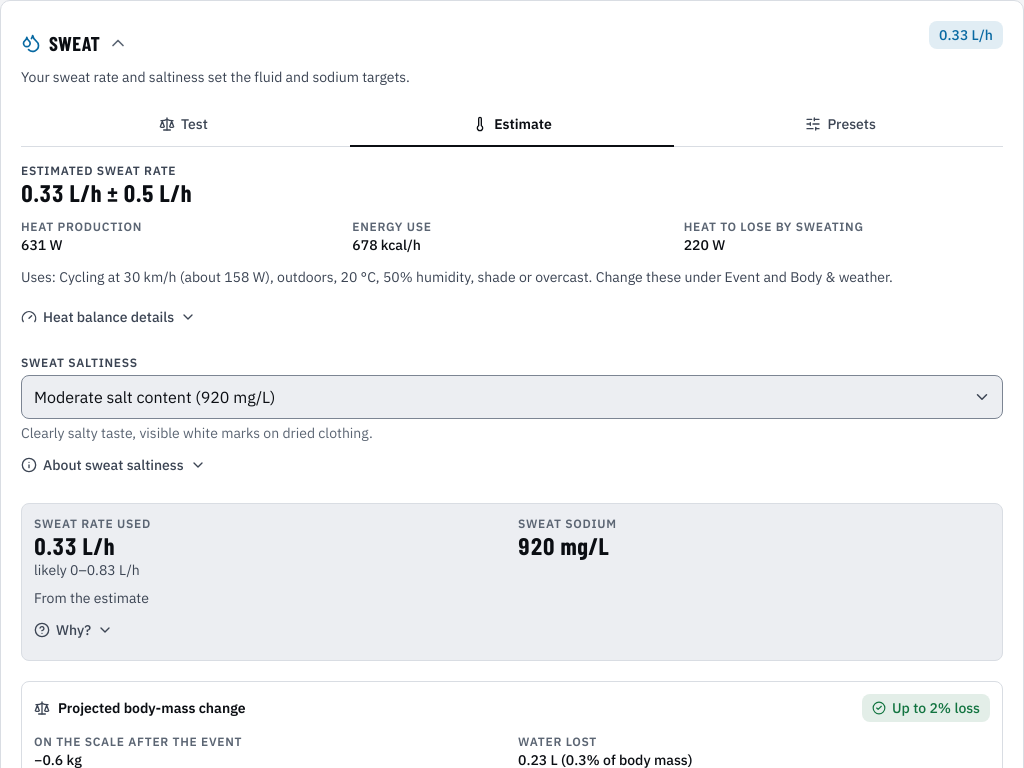
SweatSection › uses a sweat rate preset and recomputes the targets and the projection
The image size is (1024, 768).
Click the tab "Presets" at (841, 125), box [678,103,1003,147]
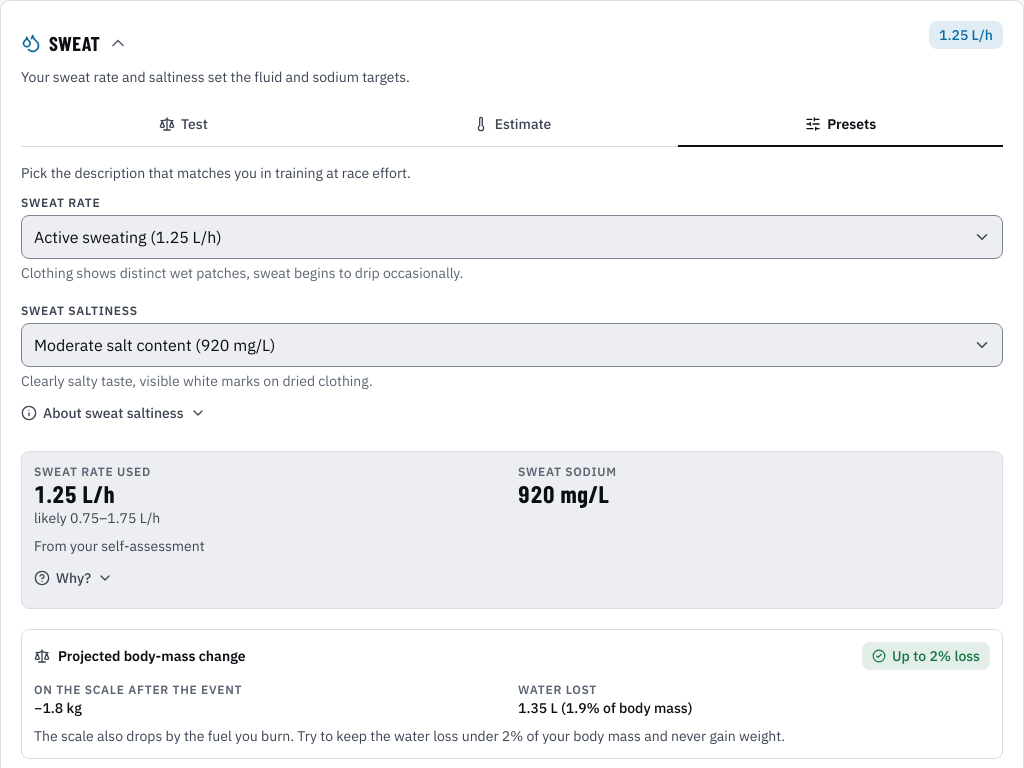
Result: the element with test id "sweat-estimate-panel" is gone
Result: the dropdown labelled "Sweat rate" shows "Active sweating (1.25 L/h)"
Result: the text with test id "sweat-rate-used" reads "1.25 L/h" at [34,479,115,508]
Select "Very heavy sweating (2.25 L/h)" in the dropdown labelled "Sweat rate" at (512, 237), box [21,215,1003,259]
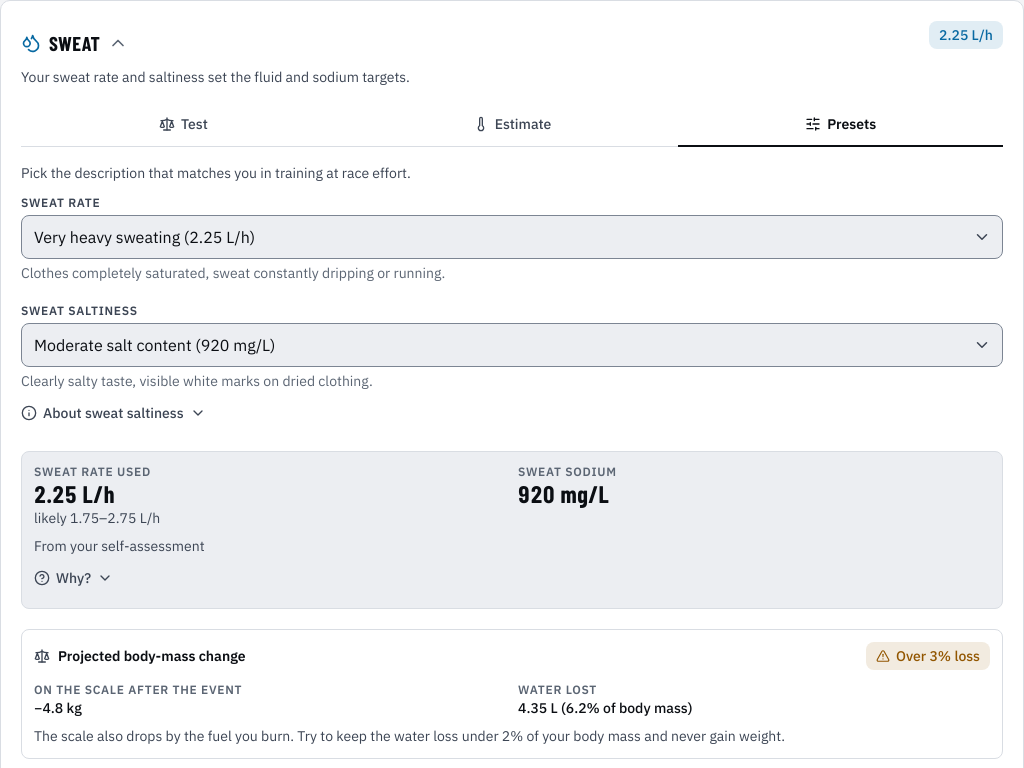
Result: the element with test id "body-mass-level" reads "Over 3% loss" at [896,647,980,665]
Result: the text with test id "body-mass-water" reads "4.35 L (6.2% of body mass)" at [518,699,692,717]
Select "Light sweating (0.25 L/h)" in the dropdown labelled "Sweat rate" at (512, 237), box [21,215,1003,259]
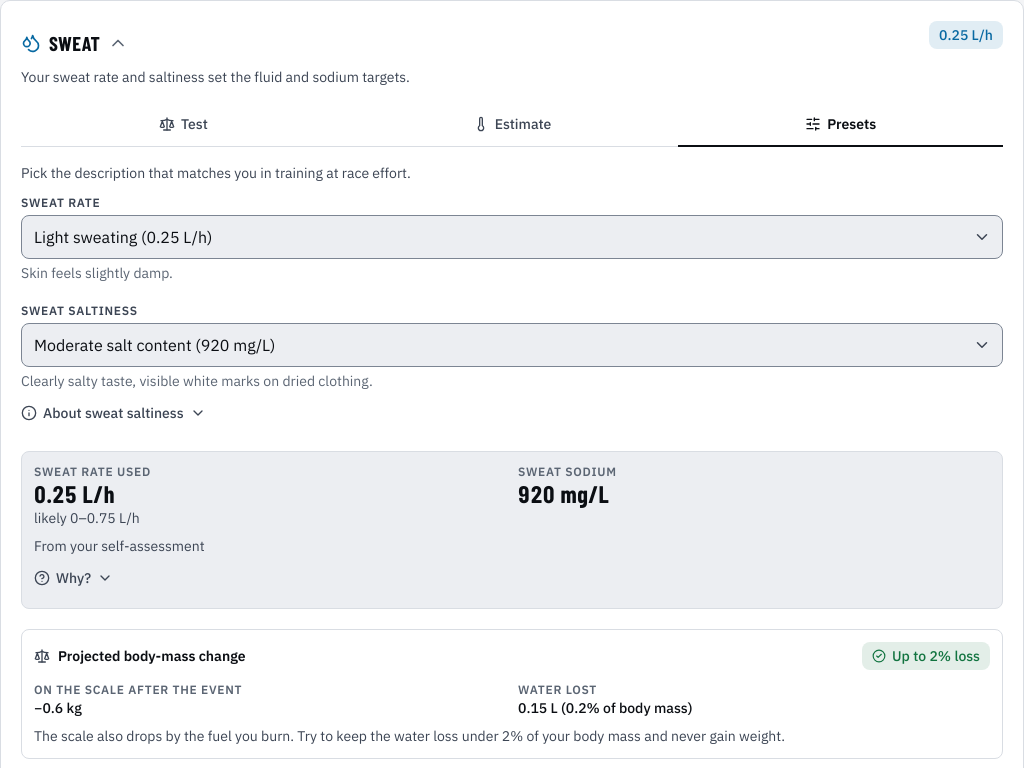
Note: 70 mmol/L is salty sweat: range 300–1000, half of 2012 mg/h → 1000 mg/h.
Select "Active sweating (1.25 L/h)" in the dropdown labelled "Sweat rate" at (512, 237), box [21,215,1003,259]
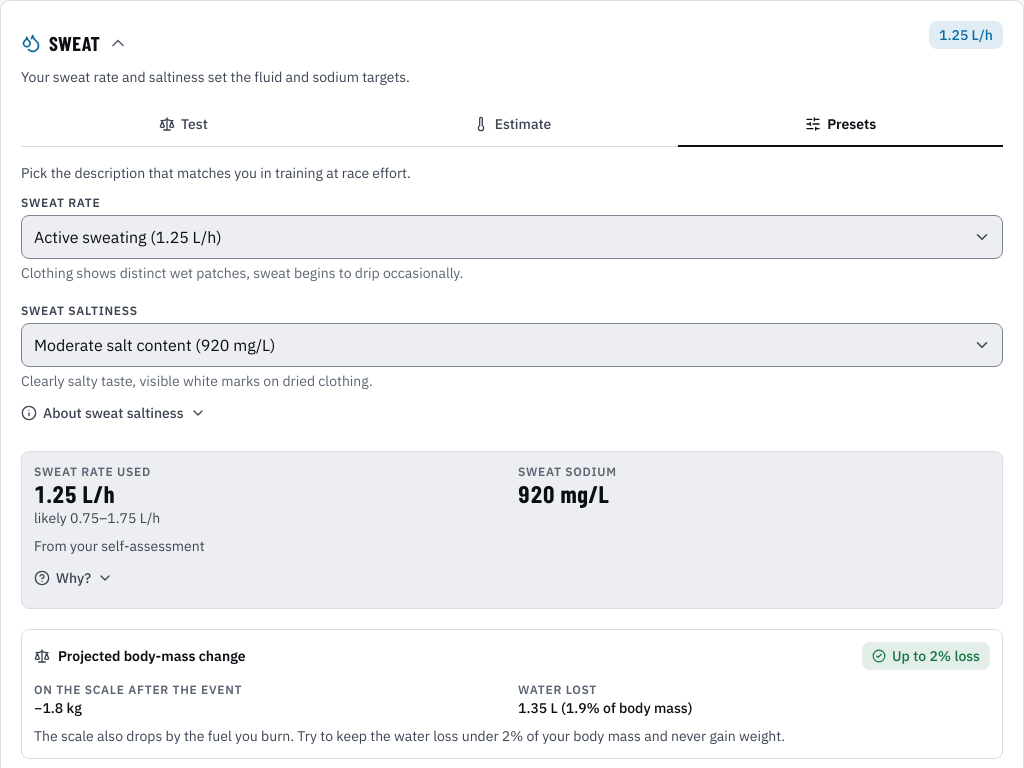
Select "Very high salt content (1,609 mg/L)" in the dropdown labelled "Sweat saltiness" at (512, 345), box [21,323,1003,367]
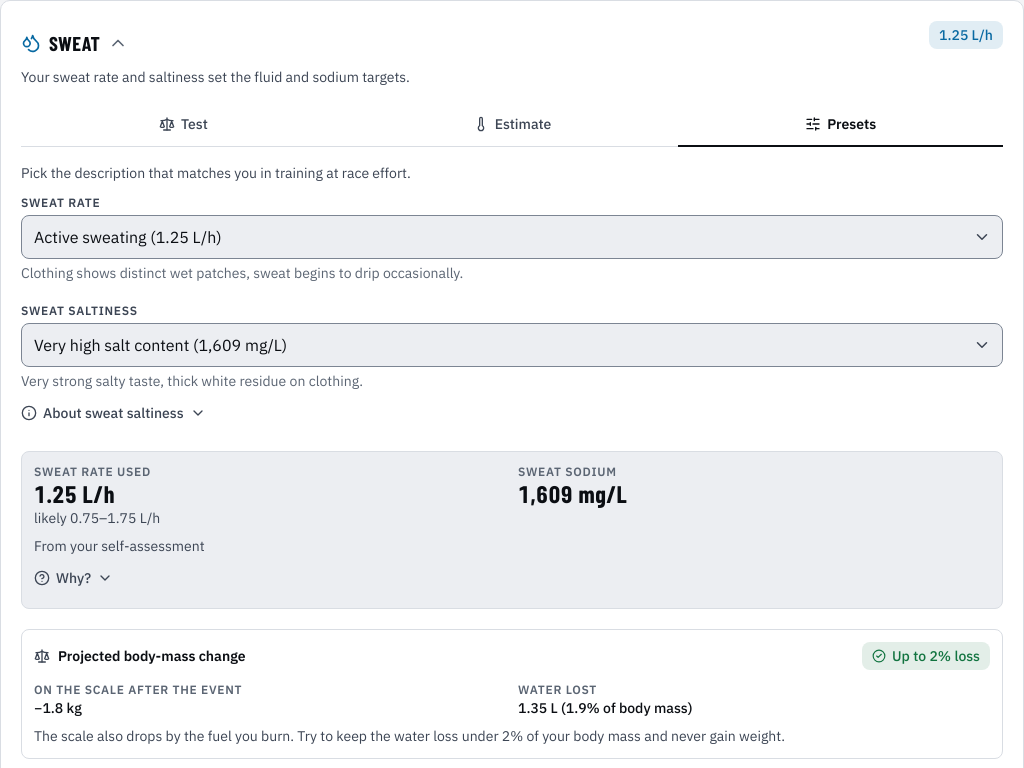
Result: the text with test id "sweat-sodium" reads "1,609 mg/L" at [518,479,627,508]
